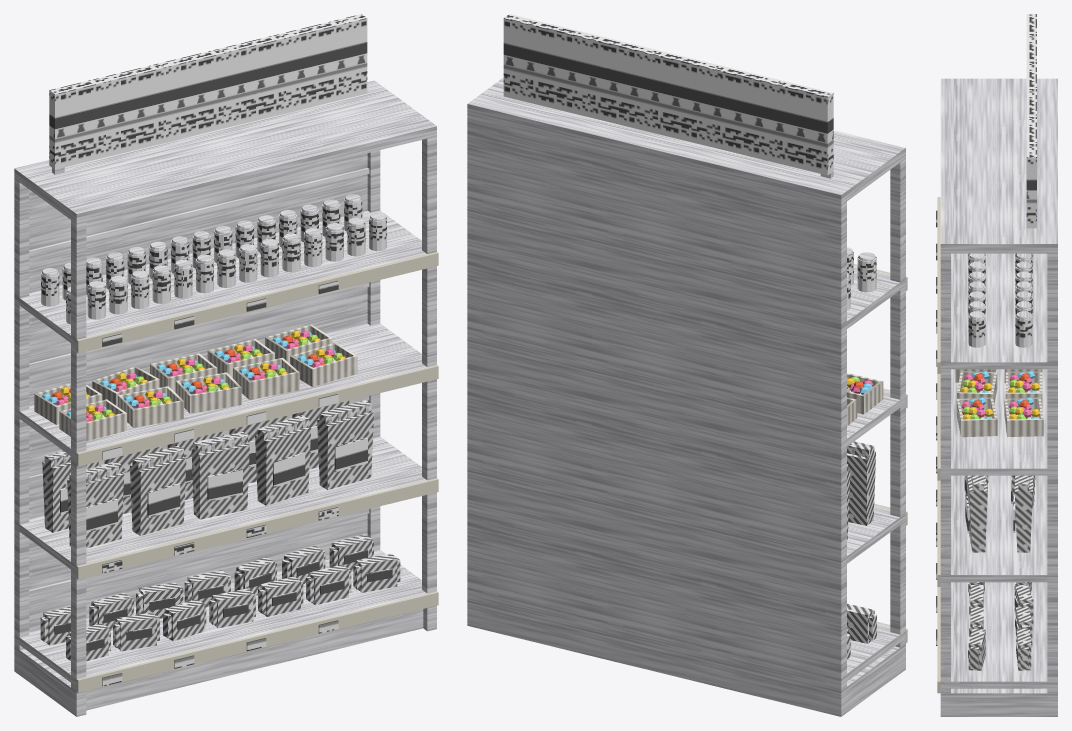
The picture shows the model from 3 angles, left to right: view 1: azimuth 30°, elevation 25°; view 2: azimuth 150°, elevation 25°; view 3: azimuth 270°, elevation 25°; orthographic projection. The views are drawn at different scales.
Parts seen in each view (by area): view 1: metallo_003, metallo_001, stampa_a_009, metallo_000, liscio_005, metallo_004, metallo_002, stampa_b_053, stampa_b_065, stampa_b_047, stampa_b_059, stampa_b_041 (+32 smaller); view 2: metallo_001, stampa_a_009, metallo_003, metallo_000, stampa_b_041, metallo_004, stampa_b_012, cartone_074; view 3: metallo_003, metallo_000, metallo_004, stampa_a_009, metallo_001, liscio_005, stampa_b_065, stampa_b_062, cartone_122, cartone_116, stampa_b_036, cartone_110 (+8 smaller).
Boxes of the visible parts, x1,y1,x2,y2 form: metallo_003: [14, 82, 436, 686]; metallo_001: [14, 80, 376, 665]; stampa_a_009: [49, 14, 367, 169]; metallo_000: [14, 80, 436, 716]; liscio_005: [76, 252, 438, 692]; metallo_004: [19, 609, 423, 713]; metallo_002: [29, 168, 369, 595]; stampa_b_053: [191, 432, 249, 519]; stampa_b_065: [317, 400, 373, 489]; stampa_b_047: [130, 446, 186, 535]; stampa_b_059: [255, 415, 310, 505]; stampa_b_041: [67, 461, 124, 548]; metallo_001: [467, 104, 843, 715]; stampa_a_009: [503, 14, 833, 175]; metallo_003: [467, 77, 905, 685]; metallo_000: [467, 100, 905, 716]; stampa_b_041: [847, 441, 875, 525]; metallo_004: [844, 646, 901, 714]; stampa_b_012: [847, 603, 876, 643]; cartone_074: [847, 373, 883, 414]; metallo_003: [940, 78, 1057, 688]; metallo_000: [940, 78, 1057, 716]; metallo_004: [949, 688, 1052, 716]; stampa_a_009: [1026, 14, 1036, 228]; metallo_001: [1052, 79, 1057, 716]; liscio_005: [937, 197, 941, 693]; stampa_b_065: [966, 475, 987, 552]; stampa_b_062: [1014, 475, 1033, 552]; cartone_122: [956, 397, 997, 437]; cartone_116: [1004, 397, 1043, 436]; stampa_b_036: [968, 629, 985, 670]; cartone_110: [957, 371, 997, 403].
Bounding box in the file's own units: 1.5 × 2.32 × 0.467.
Materials: 23 (17 with a texture image).
